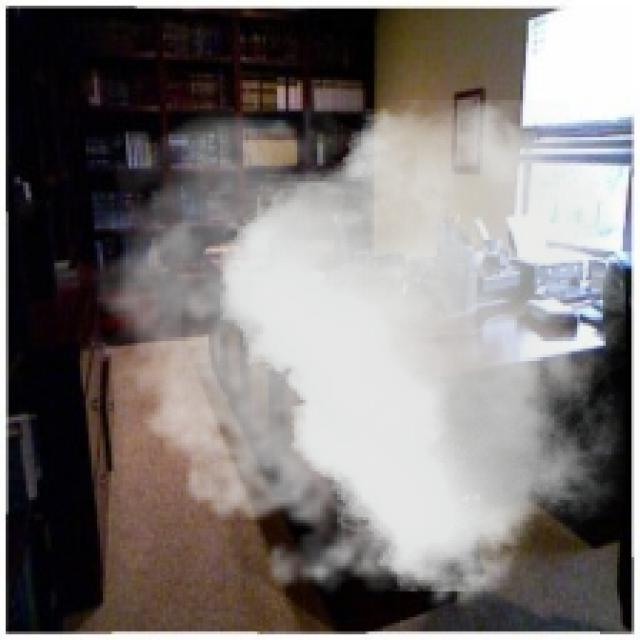smoke: (77, 100, 626, 623)
